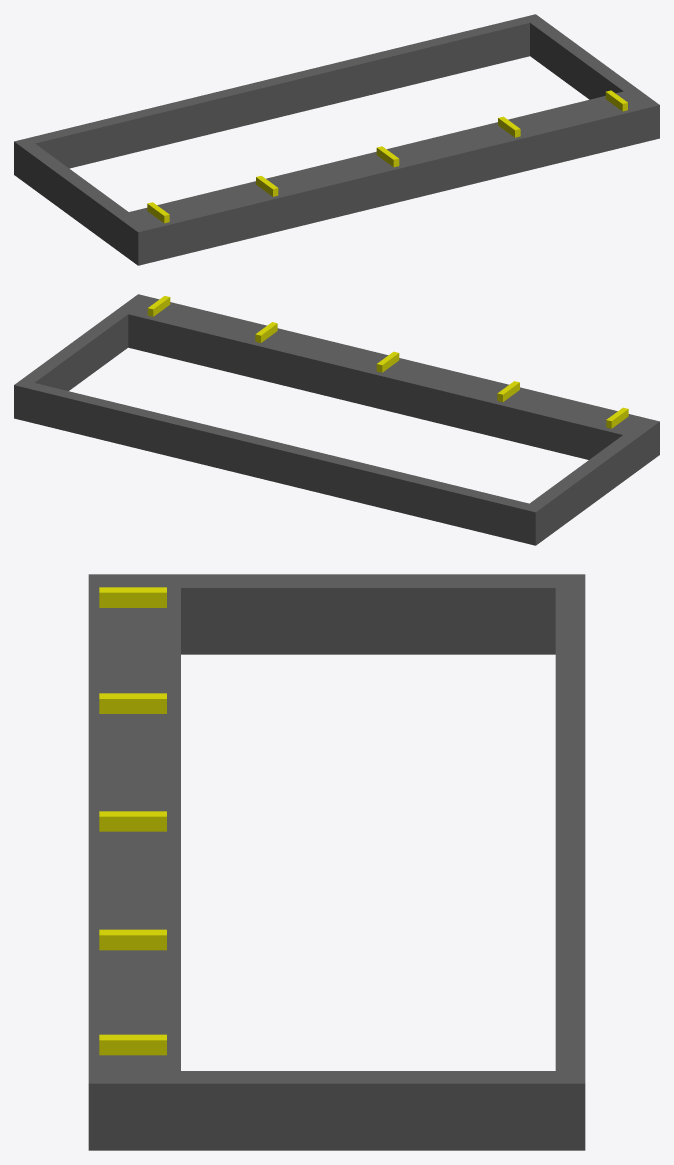
Rendered from slider_shell.fbx.
3 views of the same model, one above another, from view 1: azimuth 30°, elevation 25°; view 2: azimuth 150°, elevation 25°; view 3: azimuth 270°, elevation 25° (orthographic). The views are drawn at different scales.
Visible parts, largest first — view 1: pCube3; view 2: pCube3; view 3: pCube3, pCube6, pCube9, pCube5, pCube7, pCube8.
Part boxes in pixels (x1,y1,x2,y2): pCube3: [14, 14, 659, 265]; pCube3: [14, 294, 659, 545]; pCube3: [88, 574, 585, 1150]; pCube6: [99, 1034, 166, 1055]; pCube9: [99, 929, 166, 950]; pCube5: [99, 811, 166, 831]; pCube7: [99, 587, 166, 607]; pCube8: [99, 693, 166, 713].
Size of the model in its own units: 34.64 by 2.6 by 14.28.
